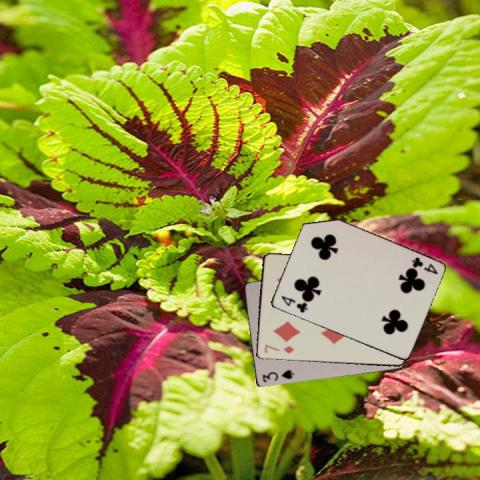3s: (259, 367, 295, 384)
4c: (278, 292, 309, 314), (408, 254, 438, 276)
7d: (262, 341, 296, 355)
